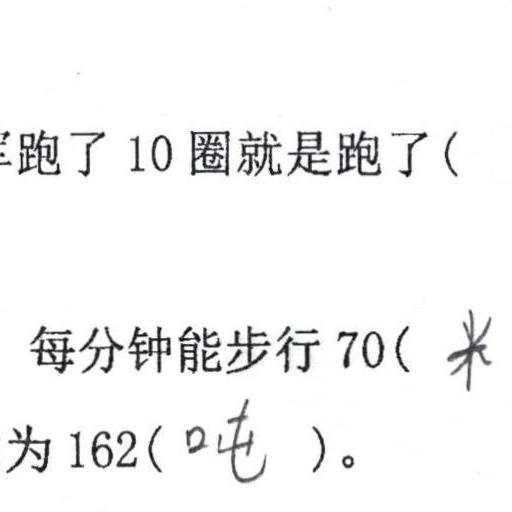ans: (182, 395, 271, 484), (443, 304, 497, 394)
